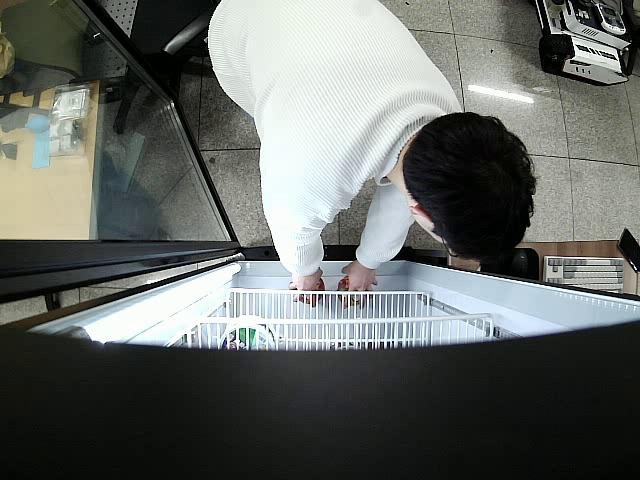00_hand: (341, 261, 377, 305), (289, 269, 324, 307)
06_nuguri_S: (337, 278, 366, 311), (294, 281, 329, 307)
